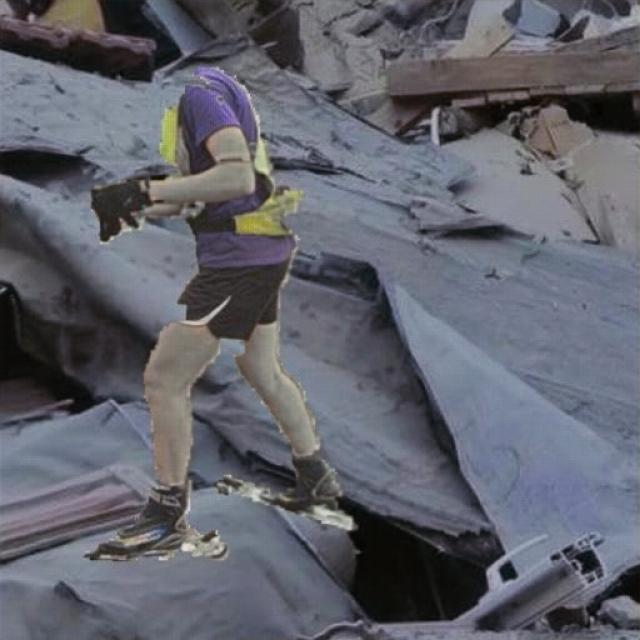Person in Rubble: (82, 68, 354, 560)
